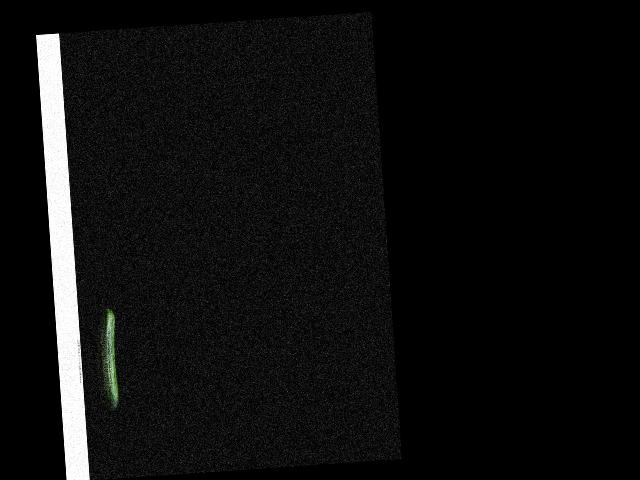cucumber: (97, 307, 120, 410)
